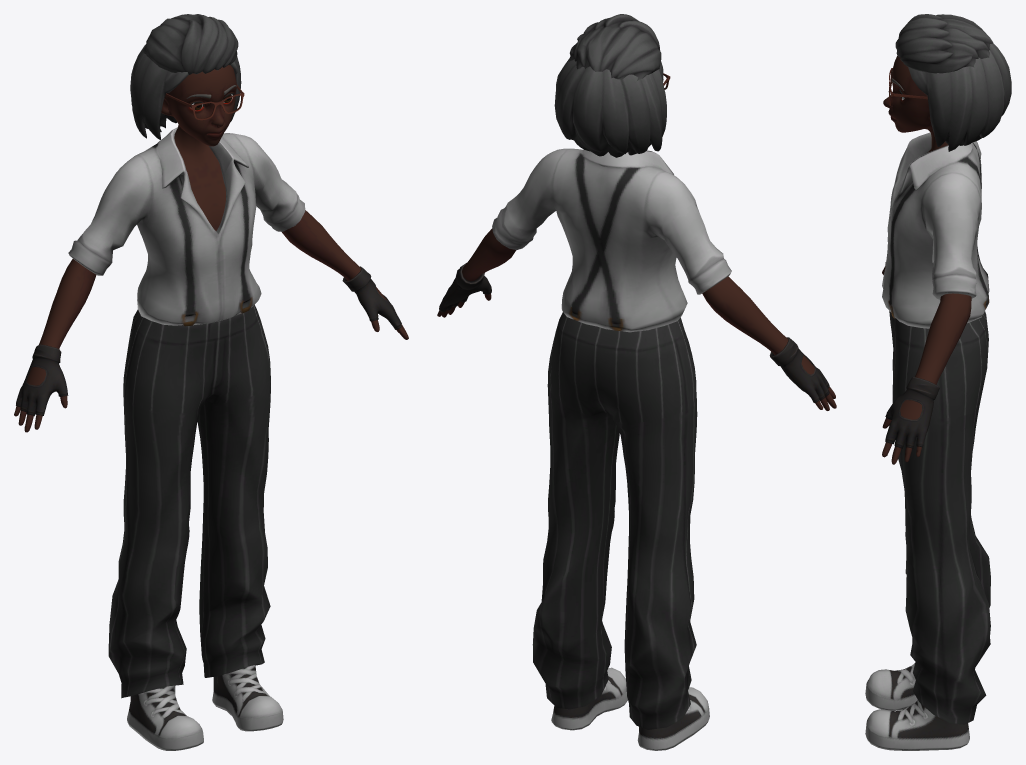
File: StaffMama_Mesh.obj
3 views of the same model, side by side, from view 1: azimuth 30°, elevation 25°; view 2: azimuth 150°, elevation 25°; view 3: azimuth 270°, elevation 25° (orthographic).
Visible parts, largest first — view 1: StaffMama_Mesh_0; view 2: StaffMama_Mesh_0; view 3: StaffMama_Mesh_0.
Part boxes in pixels (x1,y1,x2,y2): StaffMama_Mesh_0: [14, 14, 408, 750]; StaffMama_Mesh_0: [437, 14, 836, 750]; StaffMama_Mesh_0: [865, 14, 1011, 750].
Size of the model in its own units: 1.06 by 1.84 by 0.3454.
1 material, 1 textured.
